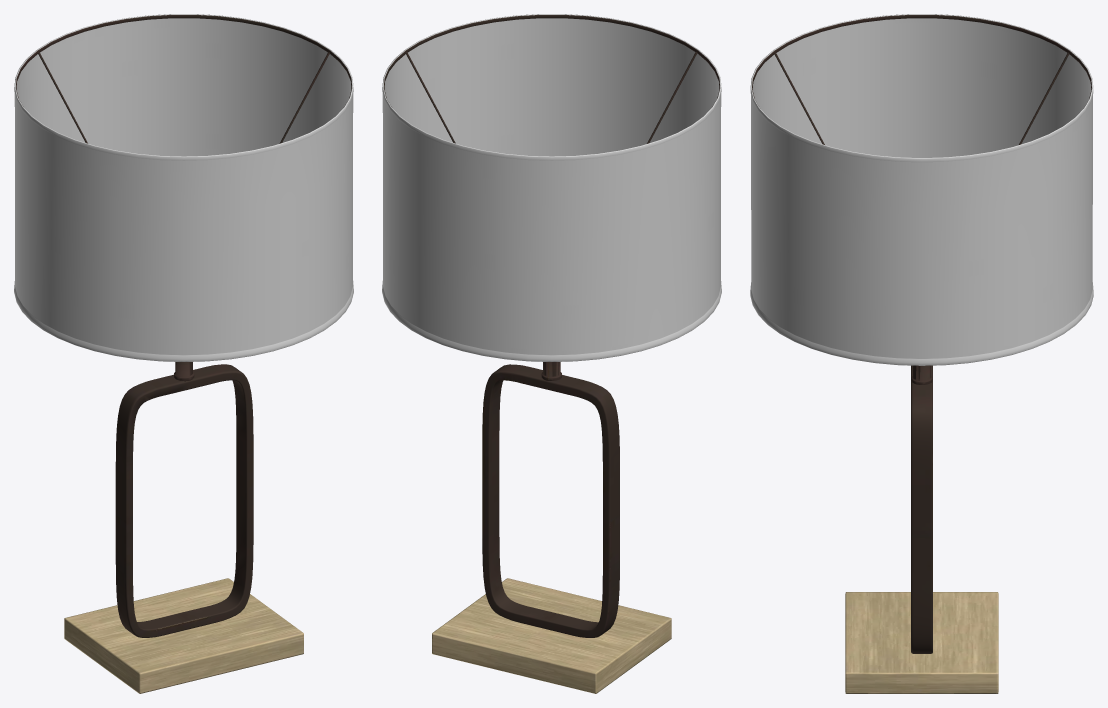
The model's file is table_lamp_abo_B07B4YVX7P.glb.
3 renders of one model, left to right at view 1: azimuth 30°, elevation 25°; view 2: azimuth 150°, elevation 25°; view 3: azimuth 270°, elevation 25°, orthographic.
Parts seen in each view (by area): view 1: RootNode; view 2: RootNode; view 3: RootNode.
Part boxes in pixels (x1,y1,x2,y2): RootNode: [14, 14, 353, 693]; RootNode: [382, 14, 721, 693]; RootNode: [750, 14, 1093, 693].
Size of the model in its own units: 0.2786 by 0.5081 by 0.2788.
Materials: 1 (1 with a texture image).
